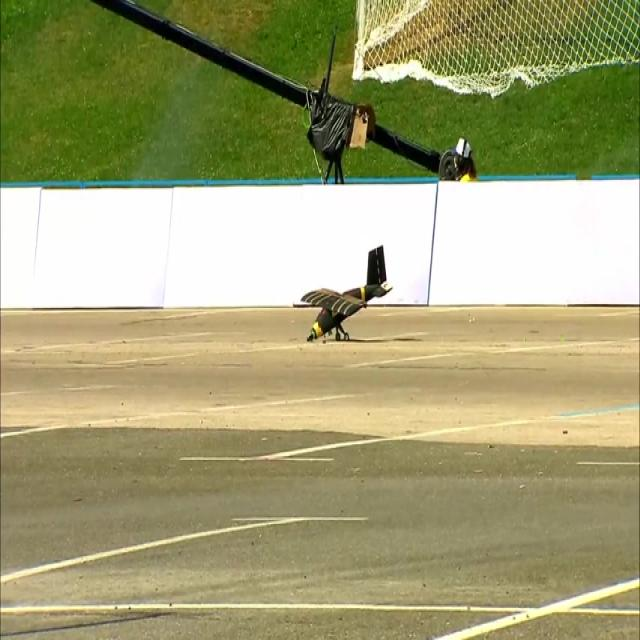iha: (332, 275, 362, 309)
